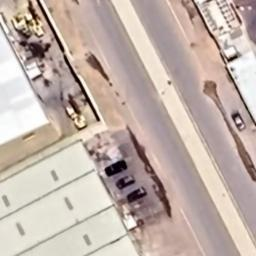sedan: (104, 159, 128, 177), (127, 186, 147, 203), (116, 174, 136, 190), (232, 114, 246, 132)
